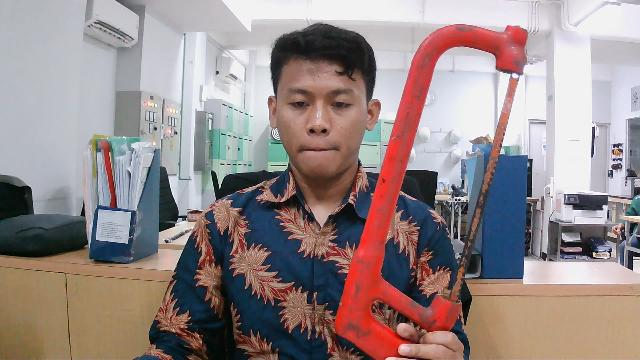gergaji_besi: (335, 0, 535, 360)
